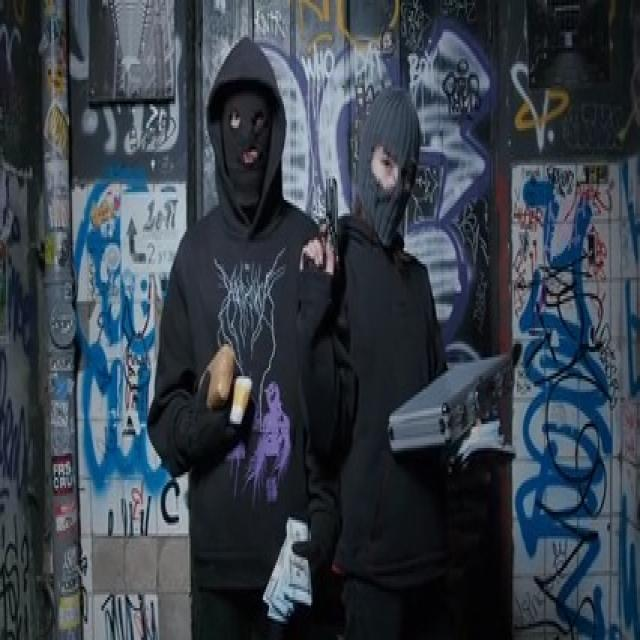Gun_Holder: (295, 162, 355, 322)
Person: (146, 27, 340, 632), (296, 66, 474, 640)
